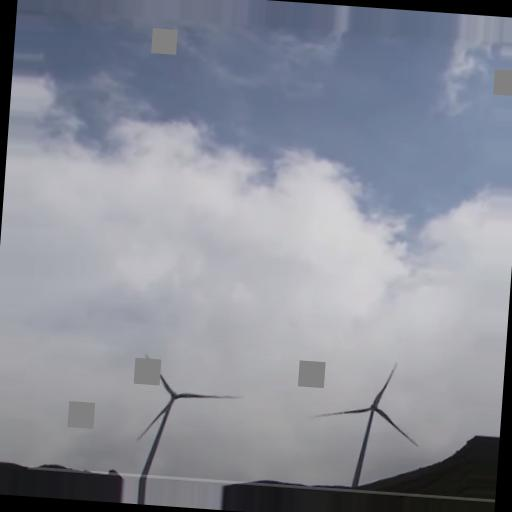wind turbine: (129, 349, 245, 477), (310, 362, 421, 487)
